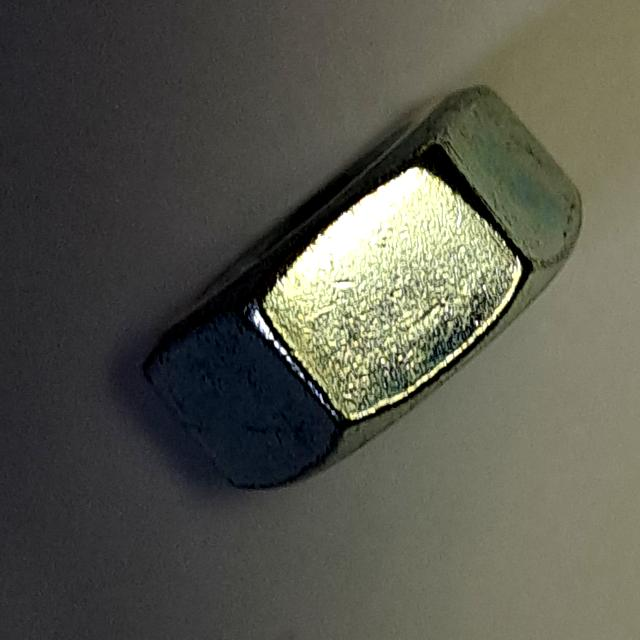Side_Excellent: (126, 68, 600, 514)
